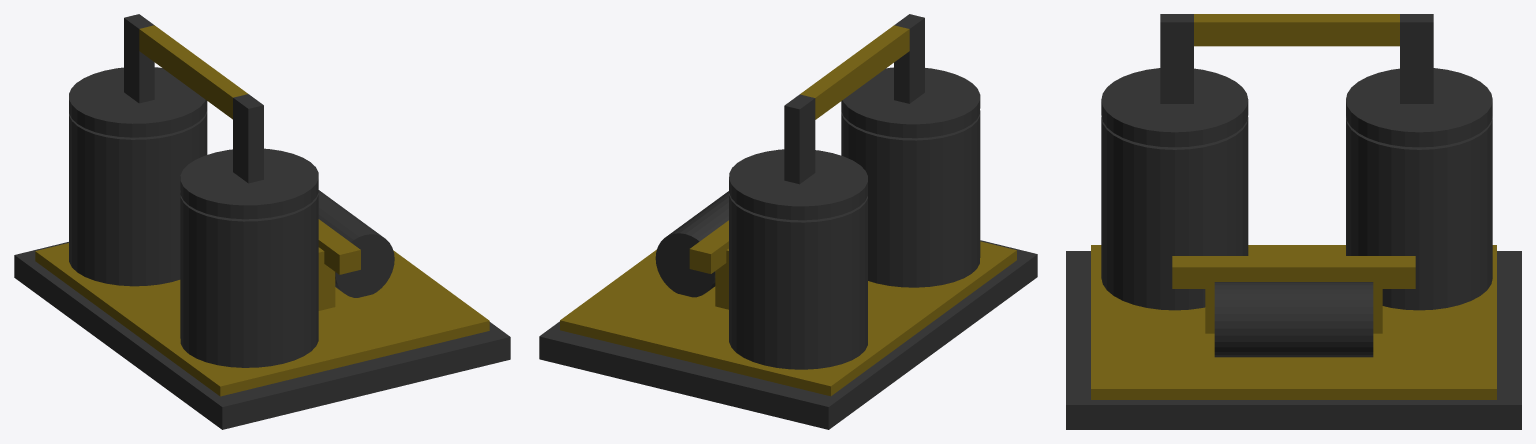
Rendered from mine_trigger.fbx.
3 renders of one model, left to right at view 1: azimuth 30°, elevation 25°; view 2: azimuth 150°, elevation 25°; view 3: azimuth 270°, elevation 25°, orthographic. The views are drawn at different scales.
Parts seen in each view (by area): view 1: Cube; view 2: Cube; view 3: Cube.
Part boxes in pixels (left/top/right/bottom): Cube: left=14, top=14, right=510, bottom=429; Cube: left=539, top=14, right=1037, bottom=429; Cube: left=1066, top=14, right=1521, bottom=429.
Bounding box in the file's own units: 412 × 372 × 515.
